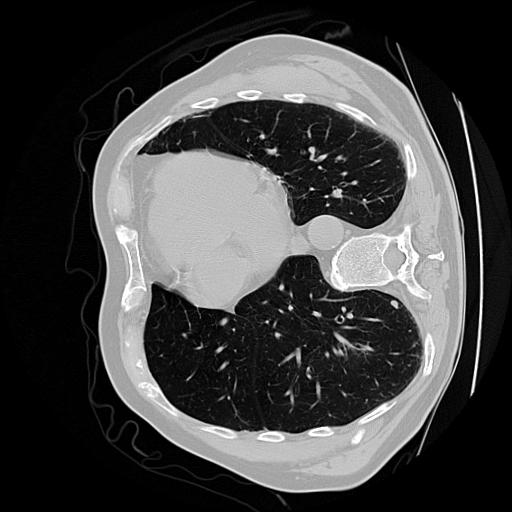nodule: (388, 299, 402, 313)
